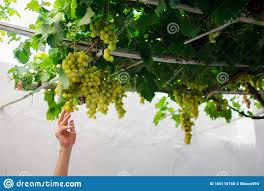grapes: (63, 45, 131, 120), (98, 20, 124, 48)
